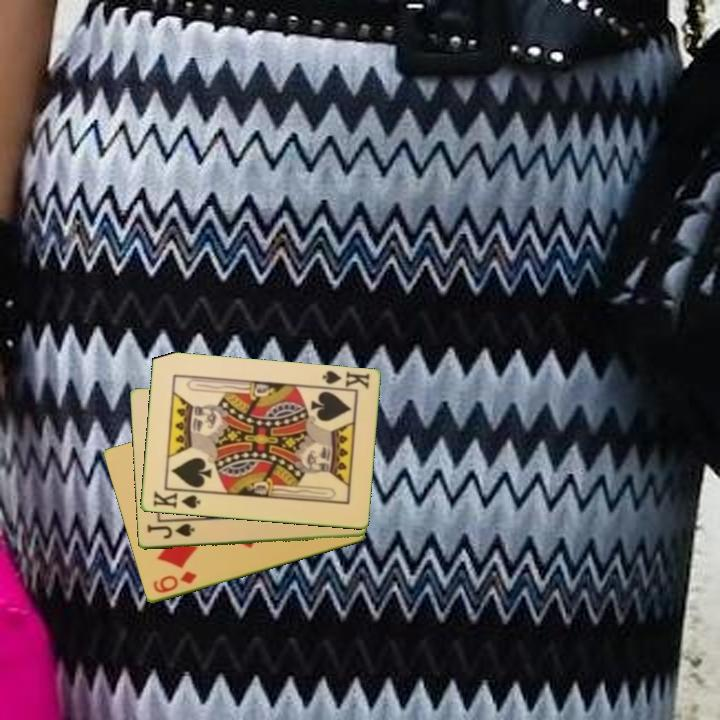6d: (149, 568, 199, 596)
Js: (144, 521, 197, 542)
Ks: (317, 367, 372, 393), (149, 487, 204, 512)
